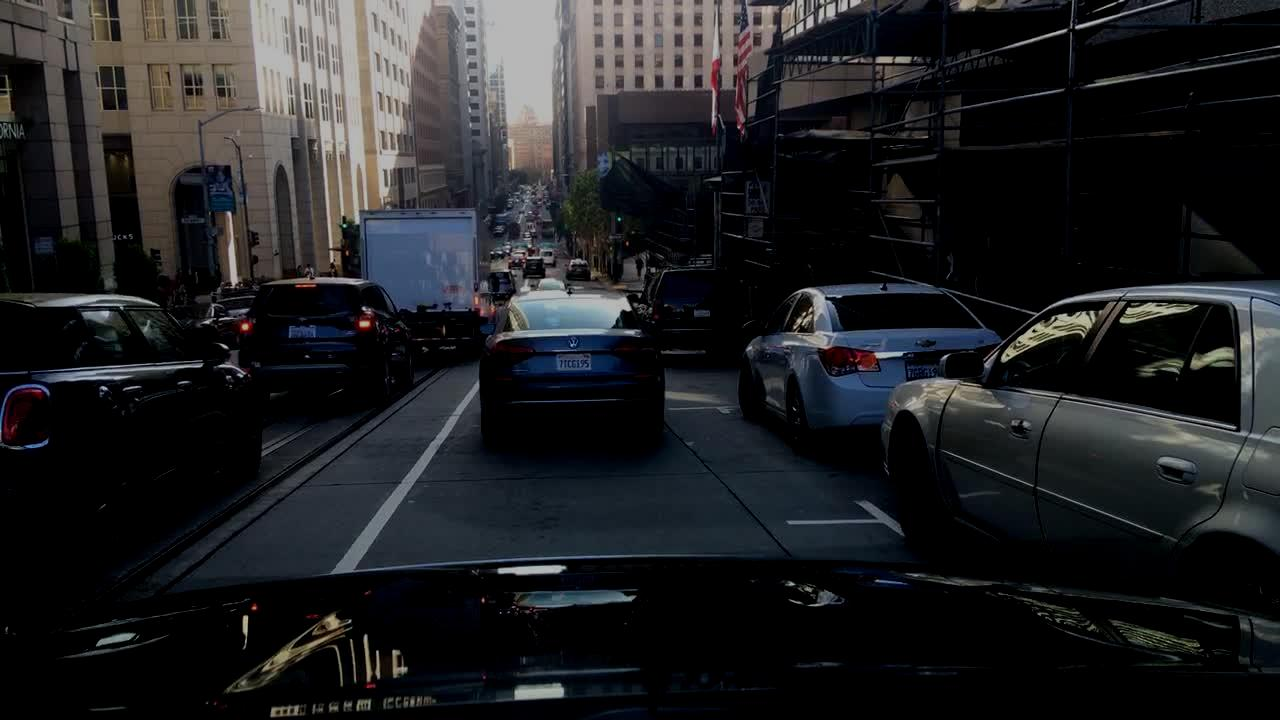Volkswagen: (560, 335, 586, 354)
chevrolet: (909, 332, 942, 353)
